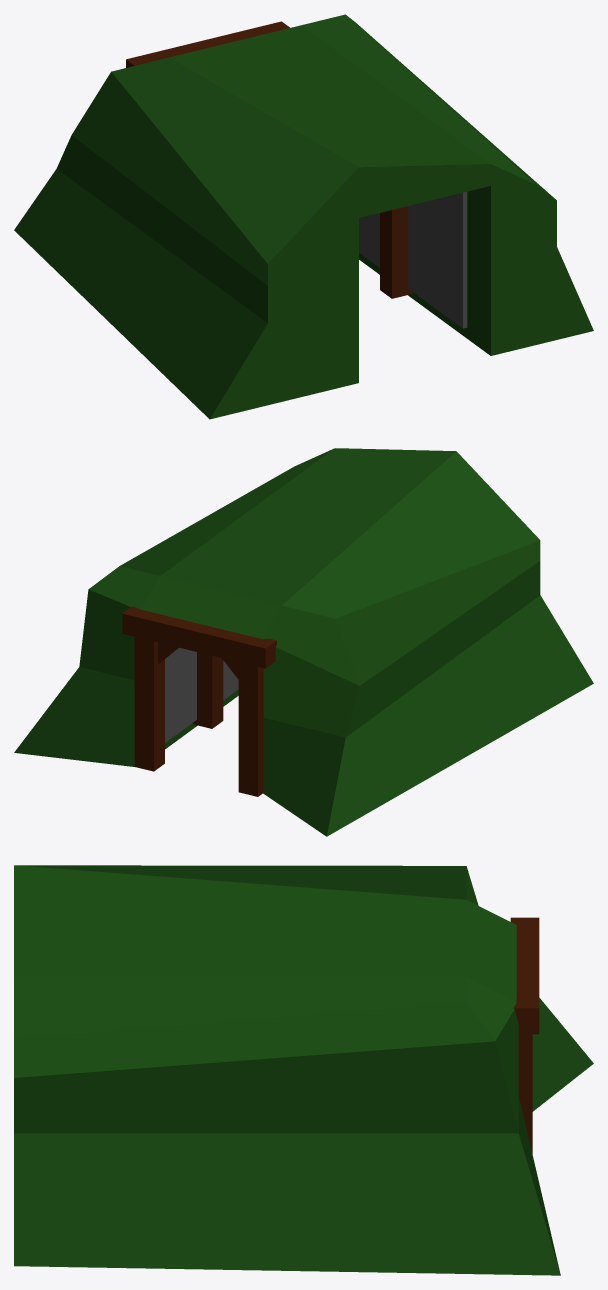
The model's file is mineEntrance.fbx.
3 views of the same model, one above another, from view 1: azimuth 30°, elevation 25°; view 2: azimuth 150°, elevation 25°; view 3: azimuth 270°, elevation 25° (orthographic). The views are drawn at different scales.
Visible parts, largest first — view 1: Cube.007; view 2: Cube.007; view 3: Cube.007.
Boxes of the visible parts, x1,y1,x2,y2 form: Cube.007: (14,14,593,419); Cube.007: (14,448,593,836); Cube.007: (14,865,593,1275).
Size of the model in its own units: 3823 by 2016 by 4016.
